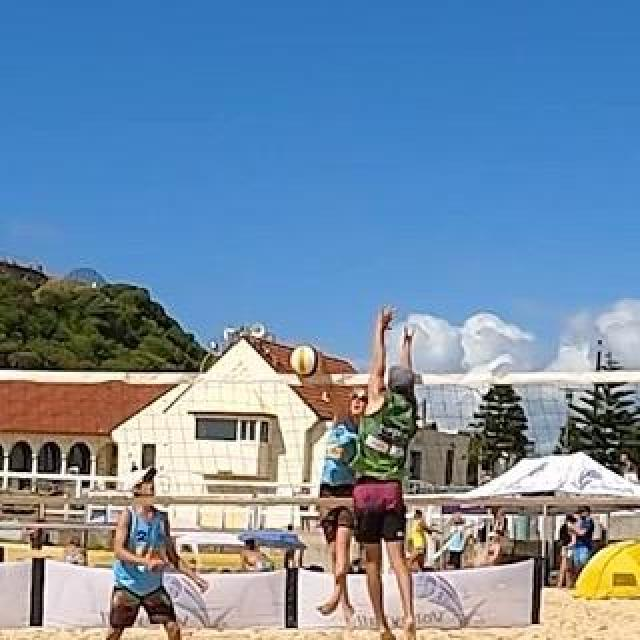volleyball: (291, 345, 321, 375)
